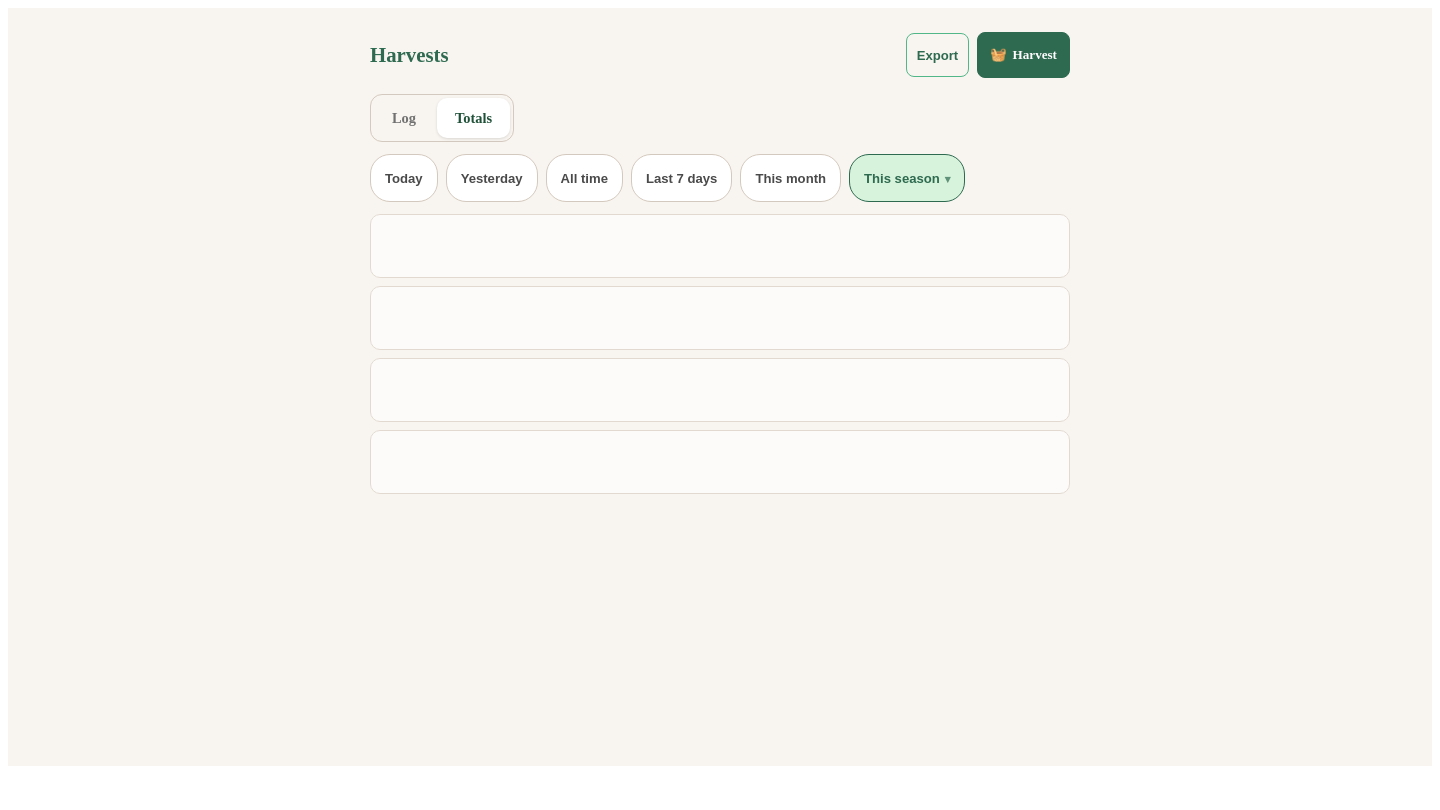
Harvests page › filters the log by crop via the picker and shows a dismissible pill
Step 1. Click the radio button labelled "Log" → [404, 118], box x1=374 y1=98 x2=434 y2=138
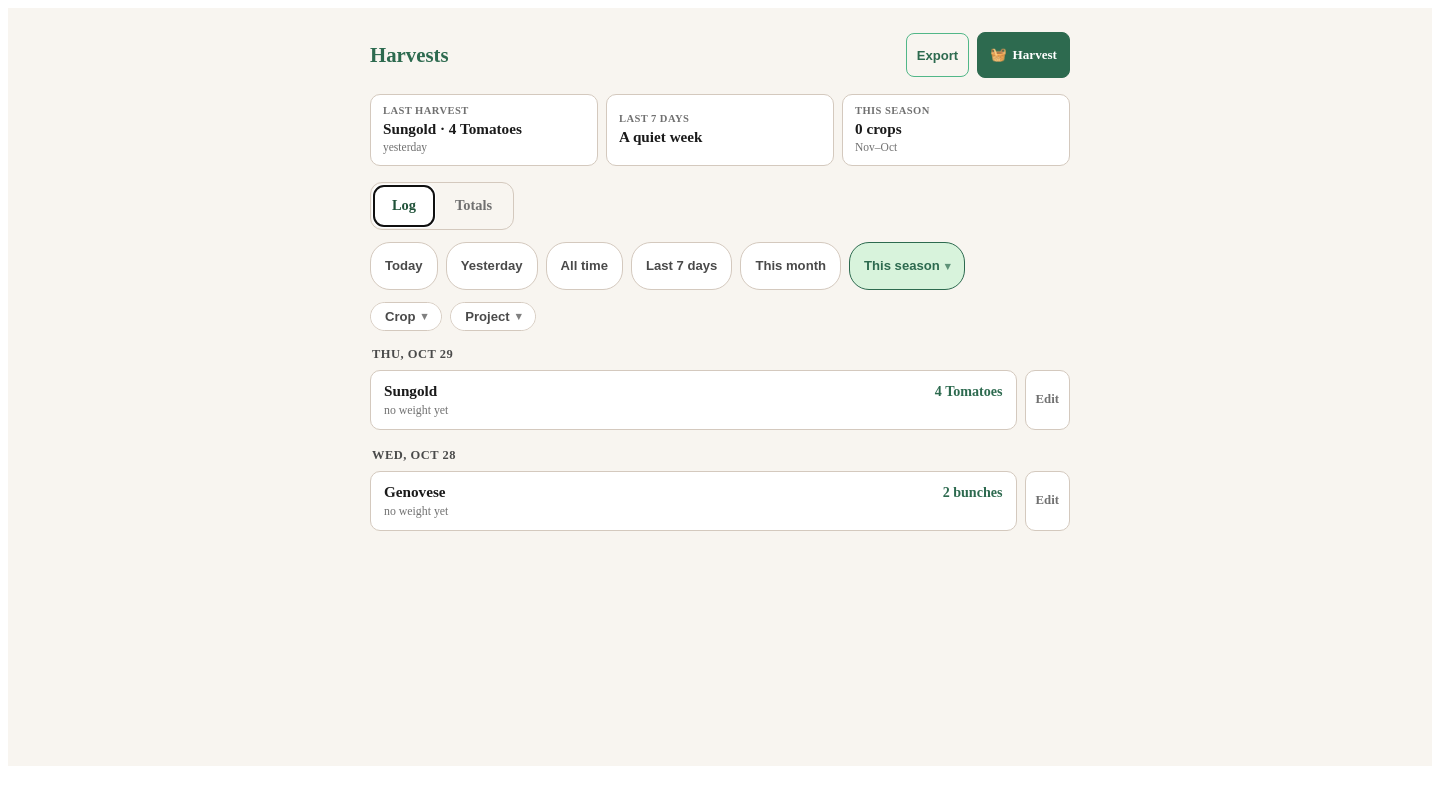
Expected: the text "Sungold" is shown, x1=384 y1=382 x2=437 y2=400
Expected: the text "Genovese" is shown, x1=384 y1=483 x2=446 y2=501
Step 2. Click the button with aria-label "filter by crop" → [406, 316], box x1=371 y1=303 x2=441 y2=330
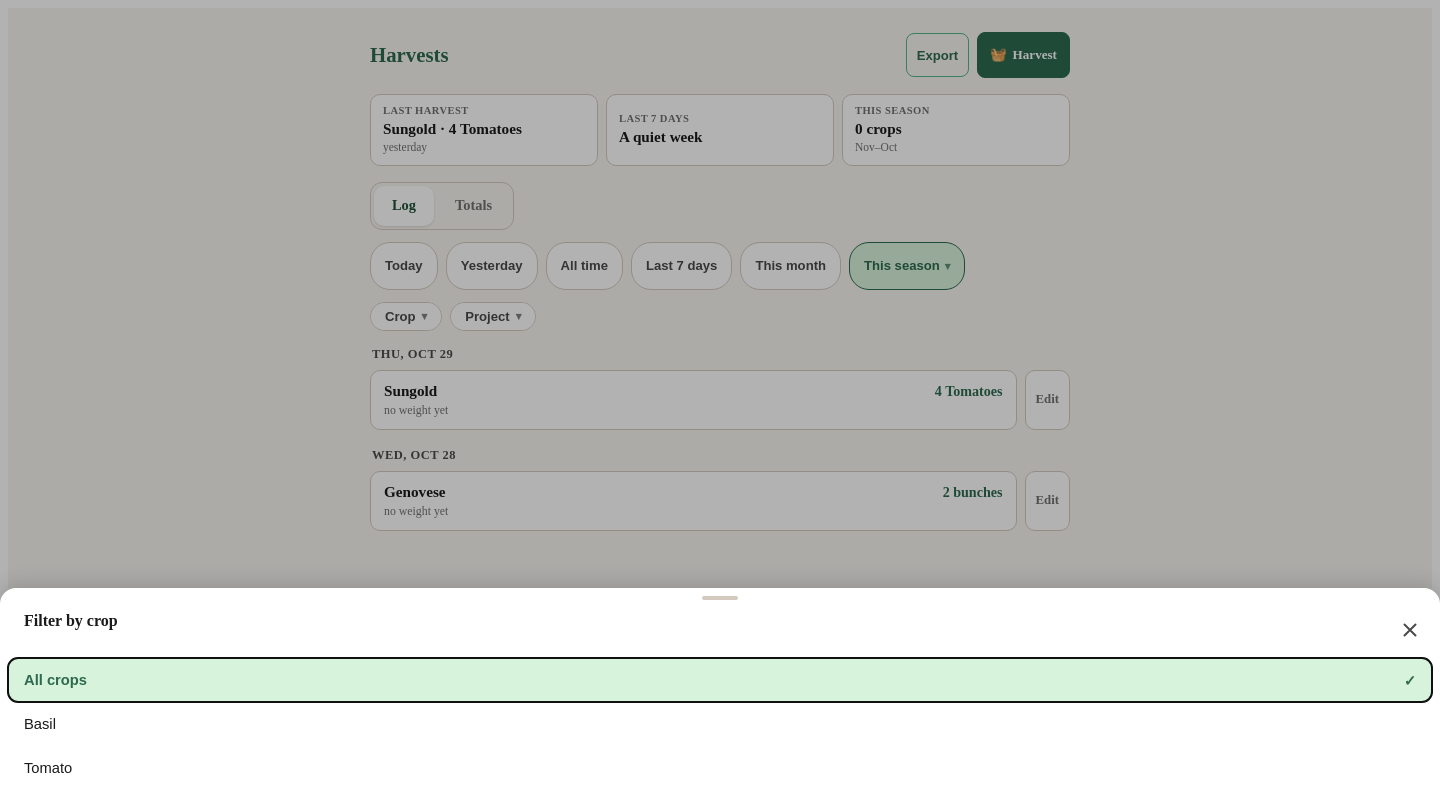
Expected: the option "Tomato" is shown
Step 3. Click the option "Tomato" → [48, 768], box x1=8 y1=746 x2=1432 y2=790
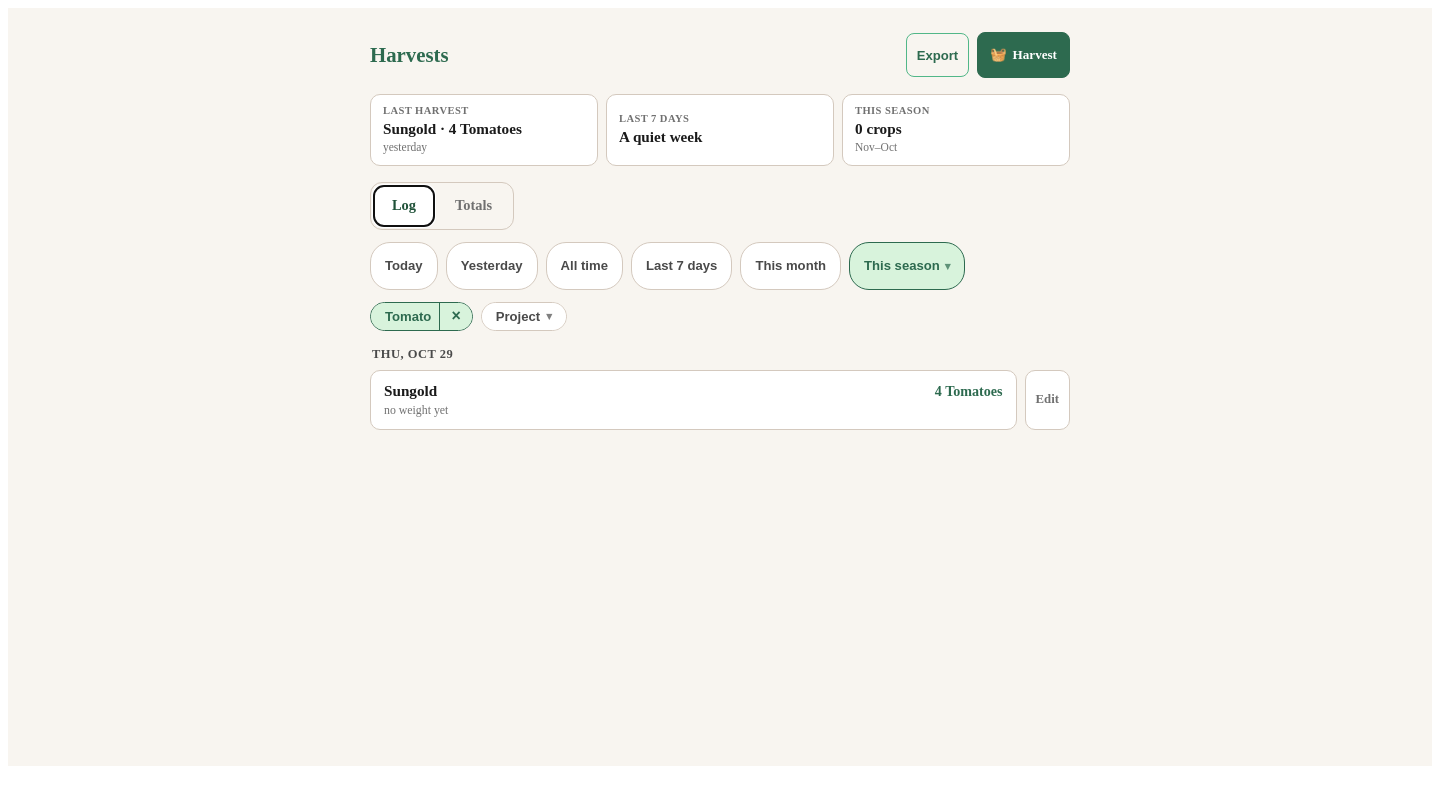
Expected: the text "Sungold" is shown, x1=384 y1=382 x2=437 y2=400
Expected: the link "Genovese" is gone
Expected: the button named "clear crop filter" is shown, x1=439 y1=303 x2=472 y2=330
